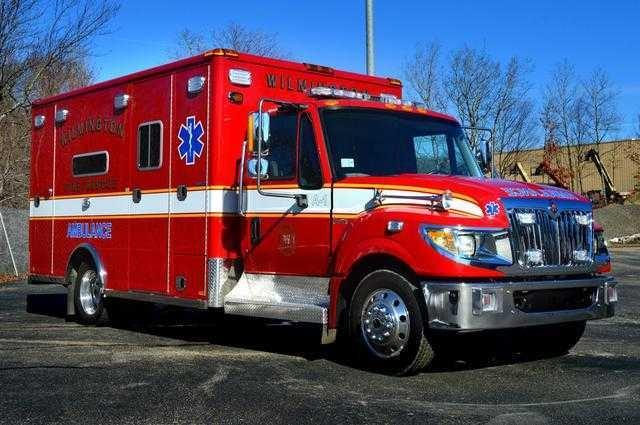car: (25, 47, 618, 376)
